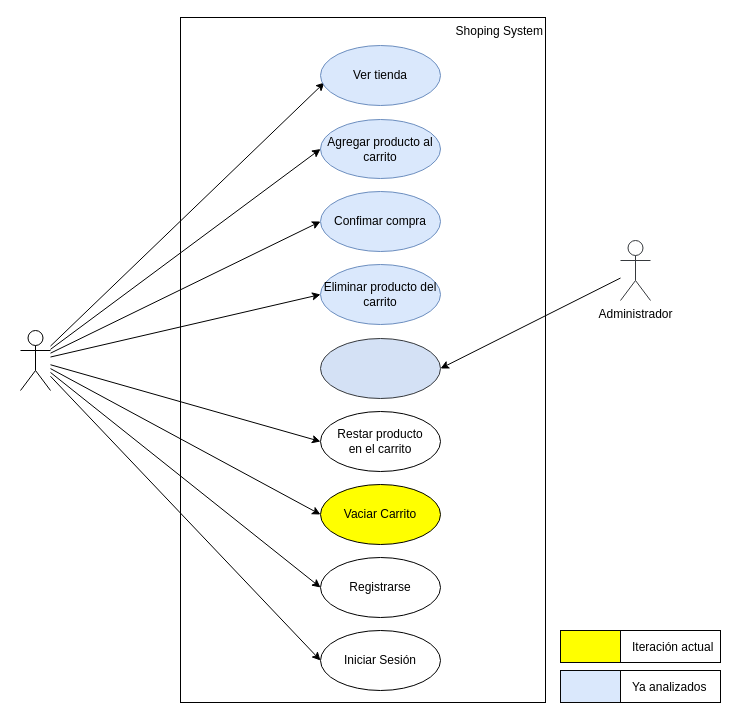
Image size: 738x720. Some labels were removed from this diagram. The shapes that lost their labels are listed below. From the top down, each one's centre as x and y in pixels, then its label:
At pixel 35 360: "Cliente".
At pixel 380 368: "Aumentar disponbilidad de un producto".
